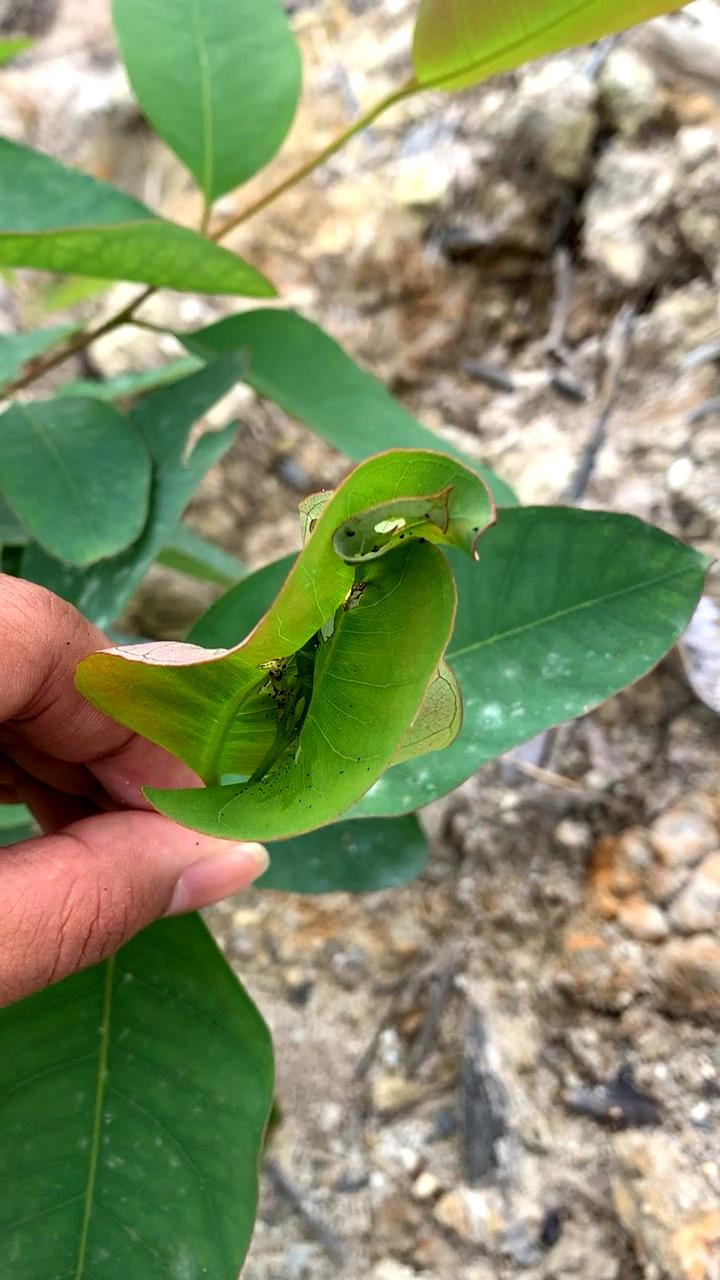Leaf Roller - Leaf: (75, 431, 520, 874)
